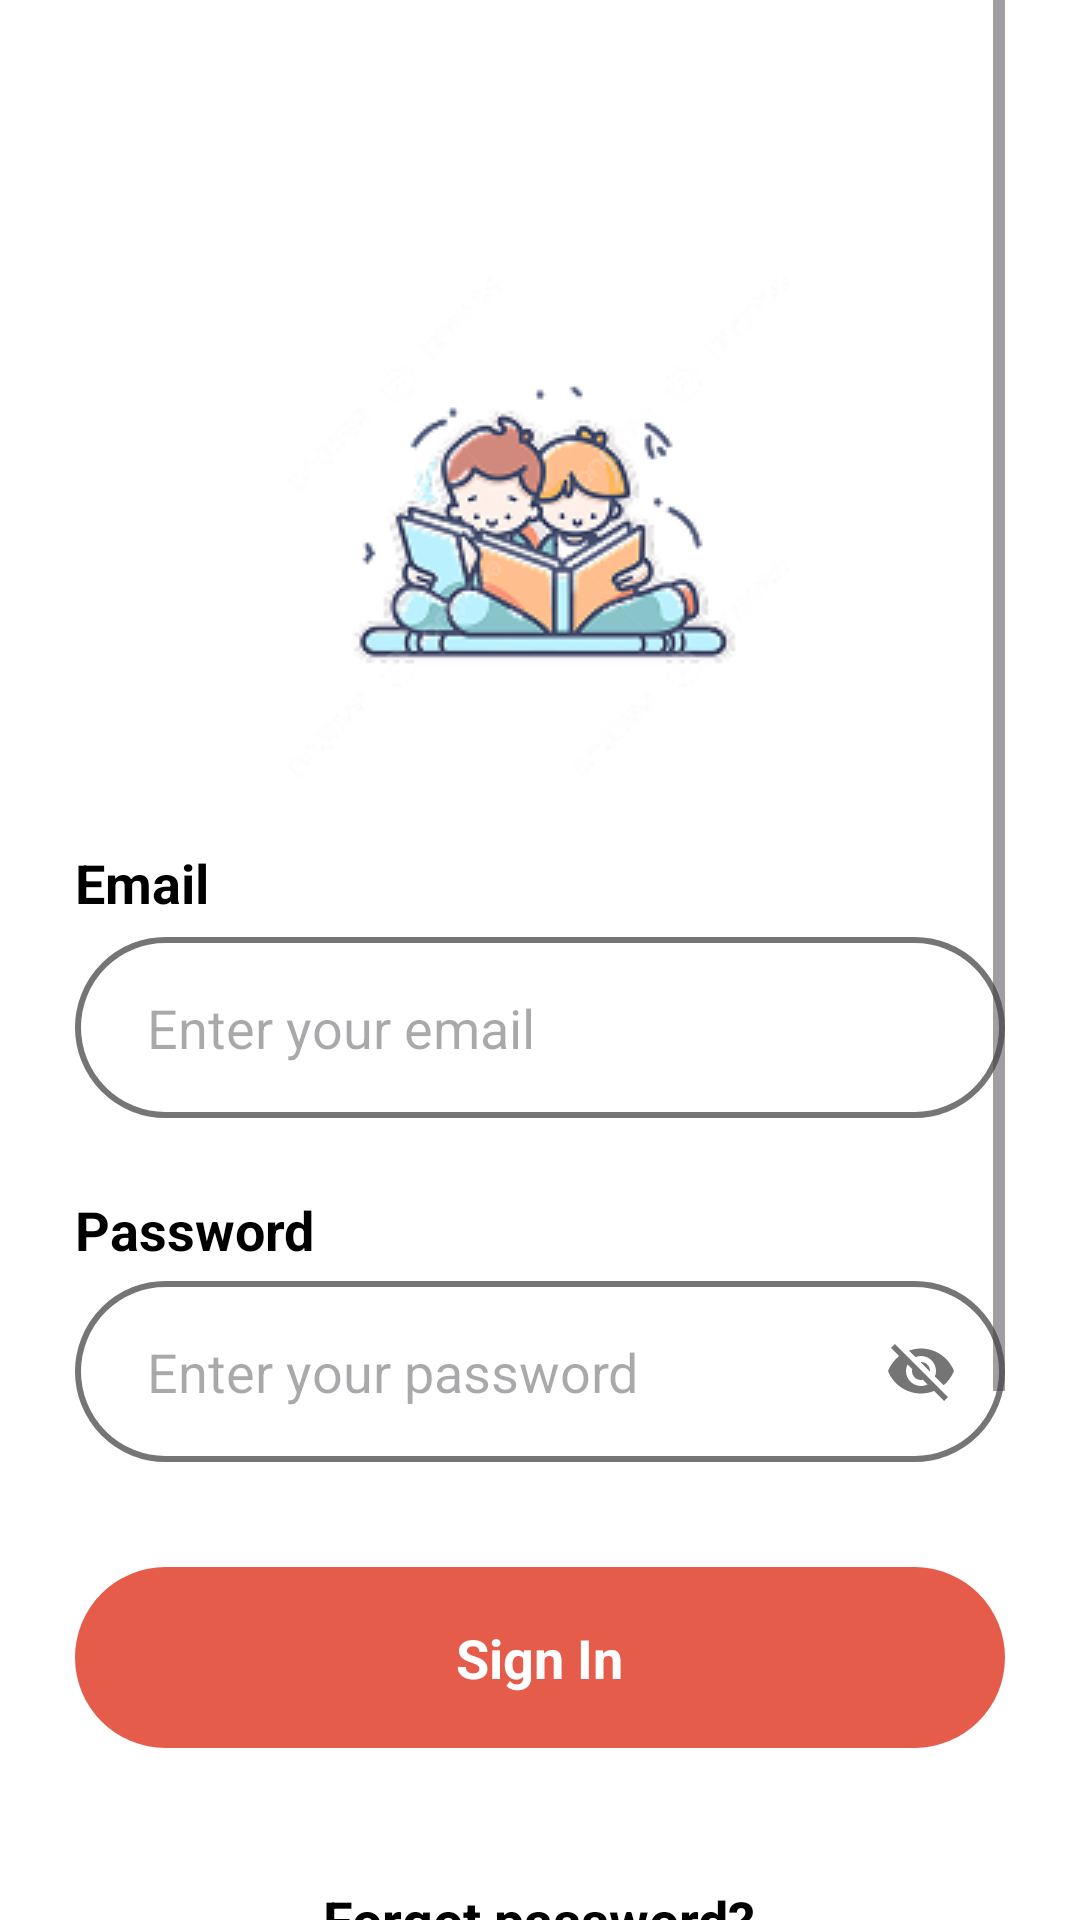

Where to tap for icons on this 1080px x 1920px app screen, as (x,y):
Show/Hide password: (921,1372)
